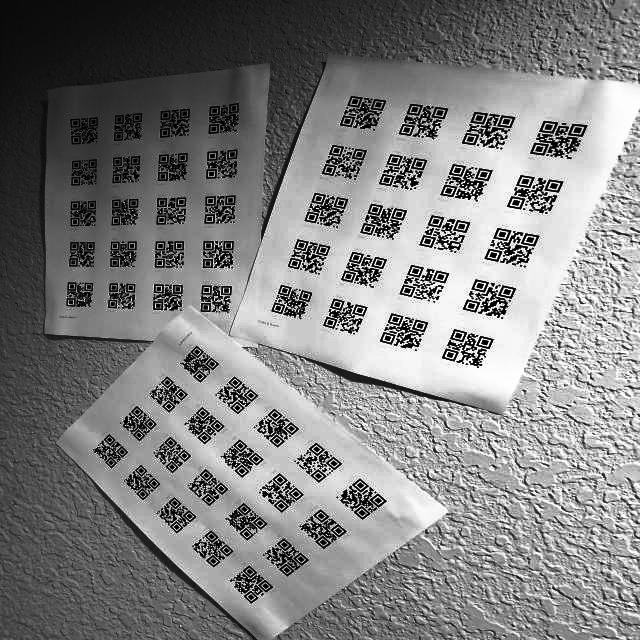qr_code: (437, 325, 505, 377), (527, 116, 592, 164), (504, 169, 566, 219), (481, 223, 543, 273), (374, 309, 433, 360), (458, 275, 518, 325), (296, 507, 363, 550), (435, 157, 495, 205), (415, 210, 472, 260), (459, 105, 517, 153), (332, 476, 391, 523), (393, 261, 453, 306), (314, 139, 373, 184), (394, 100, 452, 145), (292, 439, 345, 486), (216, 435, 271, 479), (259, 536, 315, 579), (318, 294, 369, 341), (337, 247, 389, 292), (333, 92, 390, 133), (225, 564, 280, 606), (299, 189, 351, 233), (375, 152, 430, 193), (256, 470, 306, 515), (357, 200, 409, 243), (263, 281, 314, 324), (250, 408, 301, 451), (145, 373, 195, 416), (223, 501, 273, 544), (213, 375, 263, 417), (174, 343, 222, 385), (184, 467, 232, 508), (182, 404, 226, 448), (190, 528, 234, 572), (114, 403, 161, 444), (283, 237, 332, 276), (148, 437, 198, 475), (86, 429, 131, 470), (154, 497, 200, 536), (196, 237, 243, 274), (102, 278, 145, 318), (146, 192, 192, 229), (121, 464, 164, 503), (151, 149, 194, 187), (195, 281, 238, 319), (200, 101, 244, 138), (200, 147, 244, 184), (153, 103, 193, 142), (196, 192, 239, 227), (146, 280, 189, 315), (60, 113, 104, 146), (60, 154, 100, 189), (149, 238, 189, 273), (102, 238, 143, 271), (108, 194, 144, 231), (59, 277, 96, 313), (108, 109, 146, 144), (61, 237, 100, 271), (109, 154, 147, 187), (64, 197, 101, 229)
